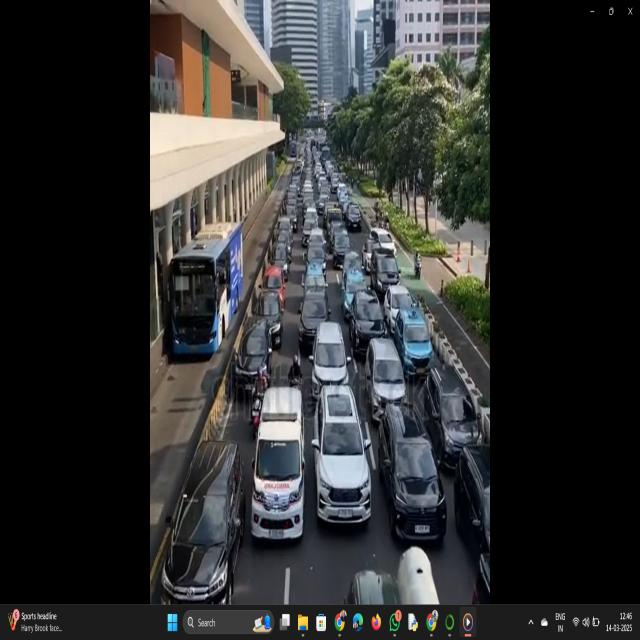Ambulance: (250, 377, 309, 544)
